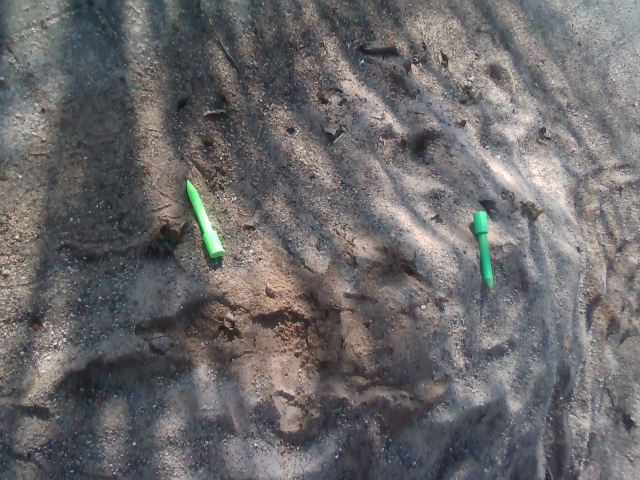Probe: (181, 174, 229, 267), (468, 207, 501, 297)
